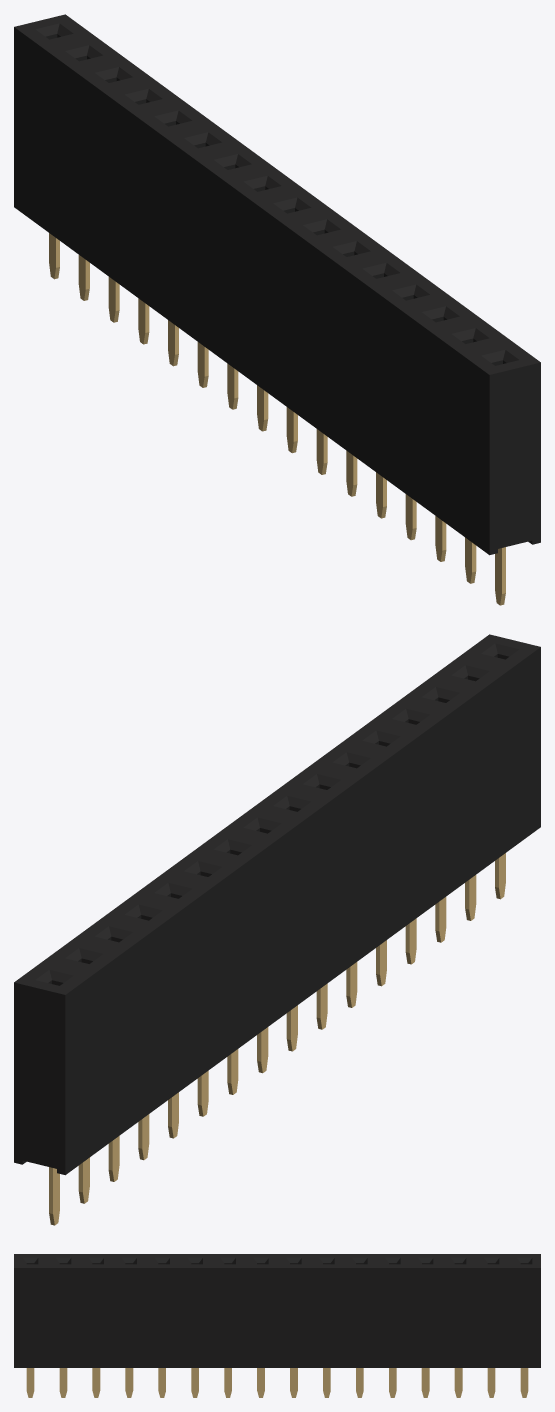
The model's file is kc-pinsocket_1x16_p2.54mm_vertical.glb.
3 views of the same model, one above another, from view 1: azimuth 30°, elevation 25°; view 2: azimuth 150°, elevation 25°; view 3: azimuth 270°, elevation 25° (orthographic). The views are drawn at different scales.
Parts seen in each view (by area): view 1: 0_0_0_0, 0.75_0.5_0.25_0.9; view 2: 0_0_0_0, 0.75_0.5_0.25_0.9; view 3: 0_0_0_0, 0.75_0.5_0.25_0.9.
Part boxes in pixels (x1,y1,x2,y2): 0_0_0_0: [14, 14, 540, 555]; 0.75_0.5_0.25_0.9: [49, 233, 505, 605]; 0_0_0_0: [14, 634, 540, 1175]; 0.75_0.5_0.25_0.9: [49, 853, 505, 1225]; 0_0_0_0: [14, 1254, 540, 1367]; 0.75_0.5_0.25_0.9: [26, 1368, 528, 1397].
Size of the model in its own units: 0.254 by 1.16 by 4.06.
